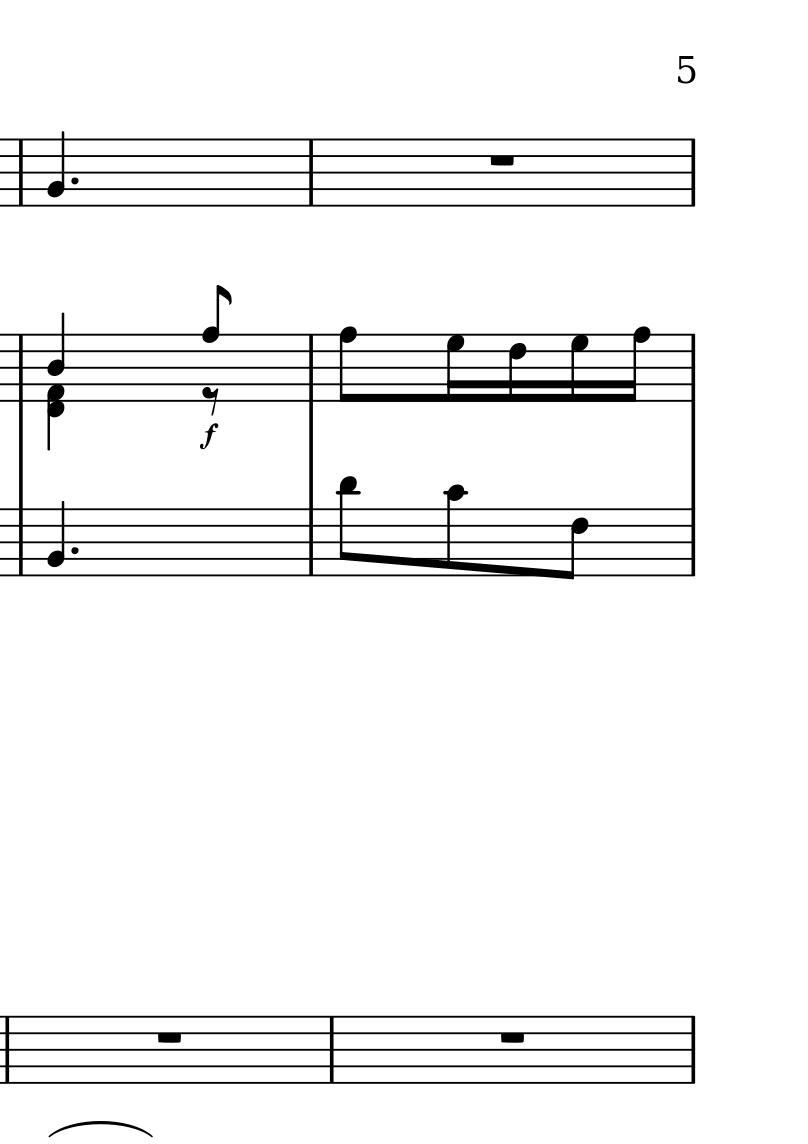16_6: (507, 332, 529, 404)
16_7: (568, 330, 591, 408), (444, 330, 467, 407)
16_8: (621, 325, 651, 405)
4_2: (46, 129, 68, 210), (46, 498, 68, 579)
5: (676, 53, 697, 86)
8_10: (440, 484, 469, 578)
8_11: (336, 475, 362, 580)
8_6: (559, 506, 590, 581)
8_8: (202, 285, 234, 398), (338, 325, 360, 405)
Rests1: (152, 1027, 187, 1047), (496, 1027, 529, 1047), (486, 151, 520, 170)
Rests8: (201, 384, 222, 416)
Single_barline: (302, 139, 321, 207), (683, 139, 702, 207), (303, 509, 322, 576), (323, 1016, 342, 1083), (684, 334, 702, 403), (12, 508, 30, 577), (683, 508, 701, 577), (12, 335, 30, 402), (683, 1016, 701, 1083), (303, 336, 321, 400), (12, 140, 29, 206), (1, 1015, 15, 1083)
dot: (69, 545, 81, 557), (69, 175, 81, 186)
f: (198, 421, 221, 450)
